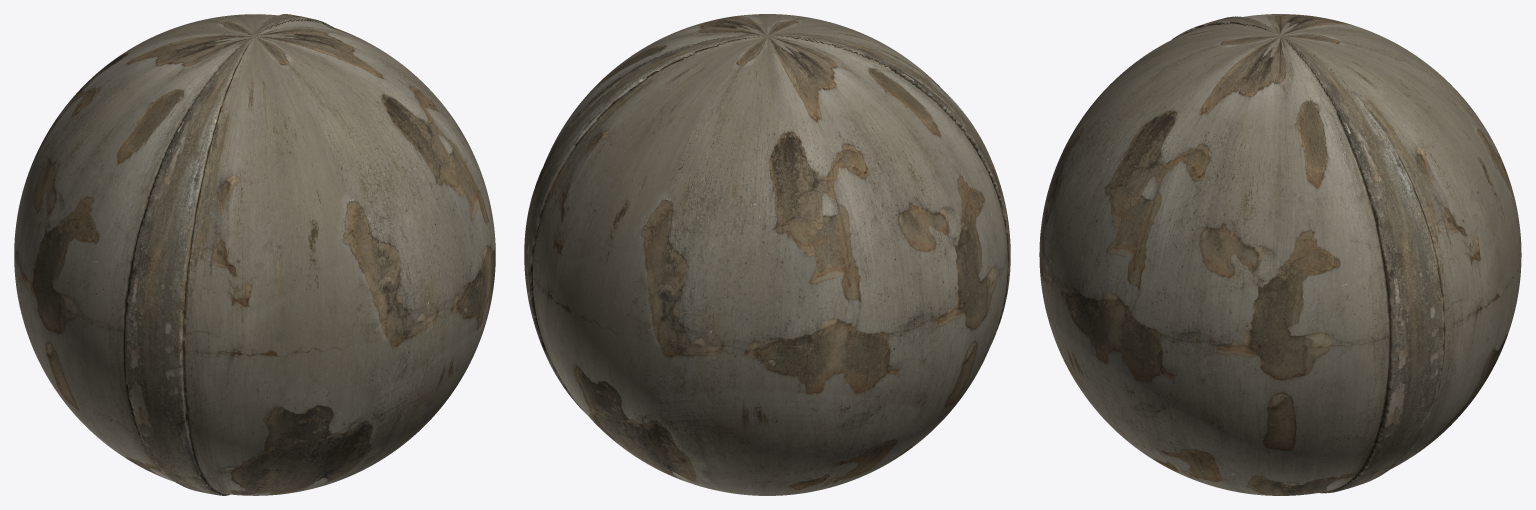
The model's file is worn_plaster_wall_1k.gltf.
3 renders of one model, left to right at view 1: azimuth 30°, elevation 25°; view 2: azimuth 150°, elevation 25°; view 3: azimuth 270°, elevation 25°, orthographic.
Visible parts, largest first — view 1: sphere_gltf; view 2: sphere_gltf; view 3: sphere_gltf.
Boxes of the visible parts, <box> form: sphere_gltf: <box>14,14,495,495</box>; sphere_gltf: <box>524,14,1010,495</box>; sphere_gltf: <box>1039,14,1521,495</box>.
Size of the model in its own units: 1.78 by 1.8 by 1.78.
1 material, 1 textured.
